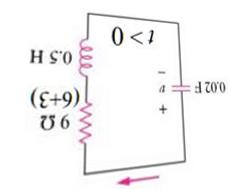resistor: (75, 93, 102, 152)
